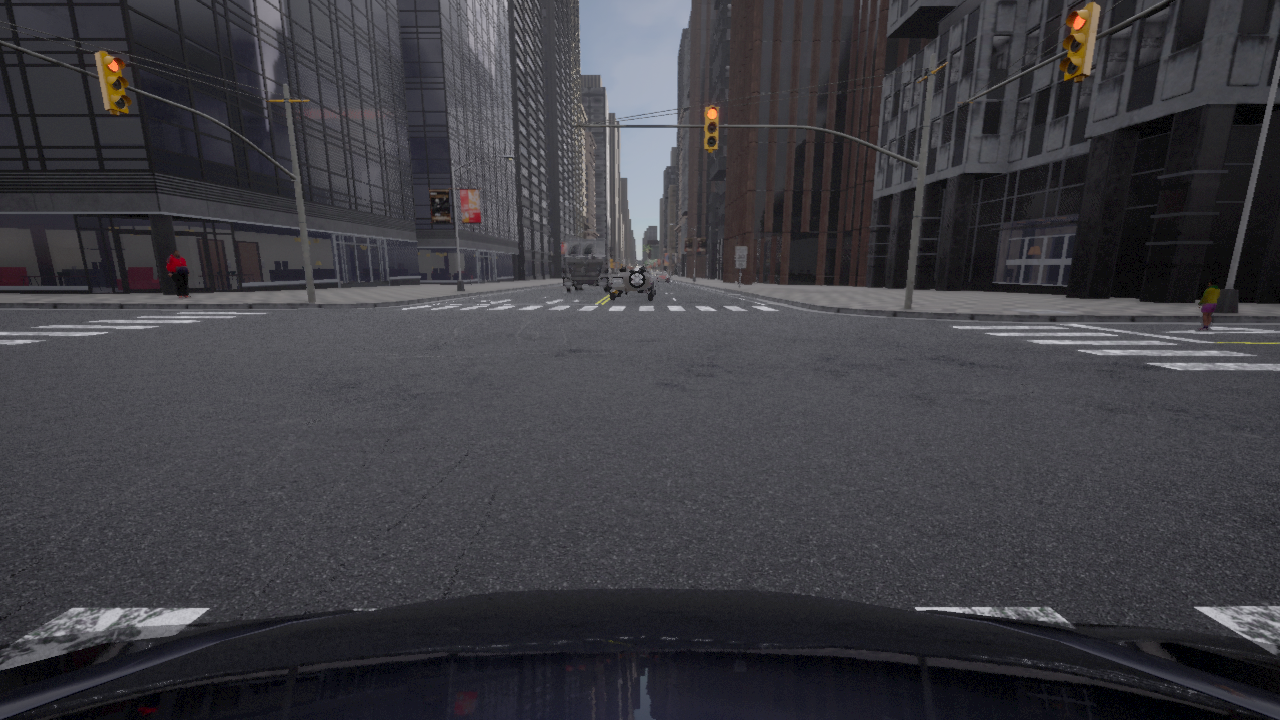cyclist: (0, 588, 1279, 719), (558, 237, 613, 292), (608, 259, 654, 300), (655, 272, 668, 281)
pedestrian: (1197, 278, 1220, 330), (166, 250, 190, 298)
